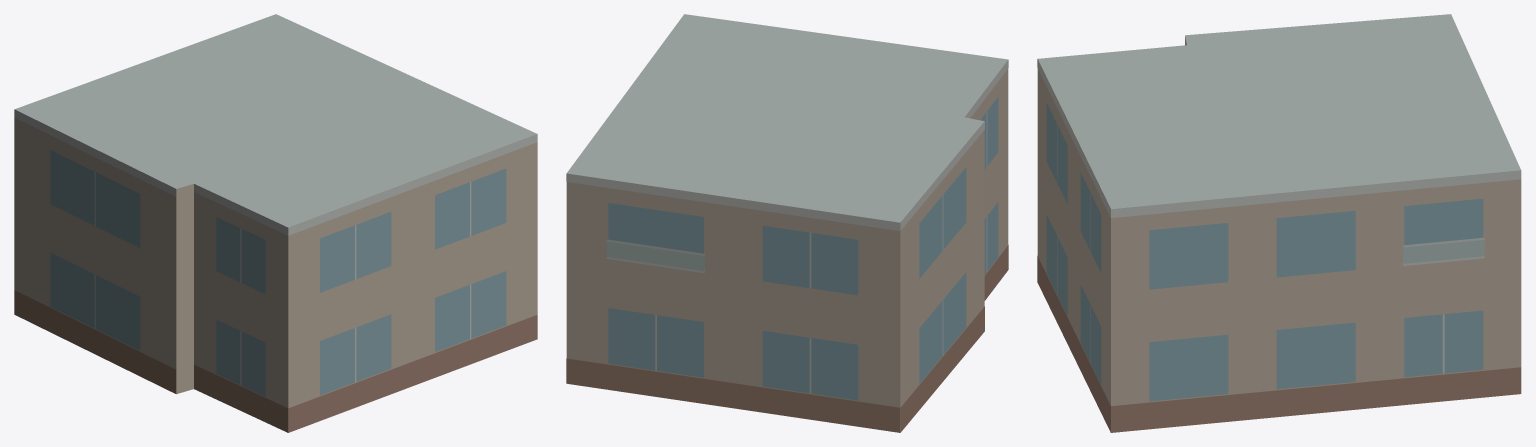
File: survey-upis-32926437.glb
3 views of the same model, side by side, from view 1: azimuth 30°, elevation 25°; view 2: azimuth 150°, elevation 25°; view 3: azimuth 270°, elevation 25° (orthographic). The views are drawn at different scales.
Visible parts, largest first — view 1: survey-upis-32926437.tmp; view 2: survey-upis-32926437.tmp; view 3: survey-upis-32926437.tmp.
Part boxes in pixels (x1,y1,x2,y2): survey-upis-32926437.tmp: (14, 14, 537, 432); survey-upis-32926437.tmp: (566, 14, 1008, 432); survey-upis-32926437.tmp: (1037, 14, 1521, 432).
Bounding box in the file's own units: 11.43 × 6.1 × 11.97.
